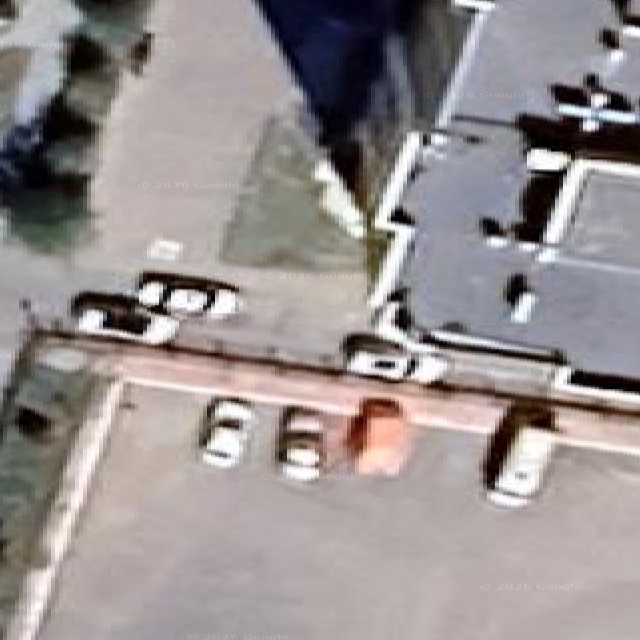car: (484, 405, 557, 506), (71, 292, 177, 344), (342, 334, 447, 383), (135, 271, 241, 318), (349, 397, 411, 475), (276, 407, 325, 481), (200, 398, 252, 467), (342, 334, 411, 380)
